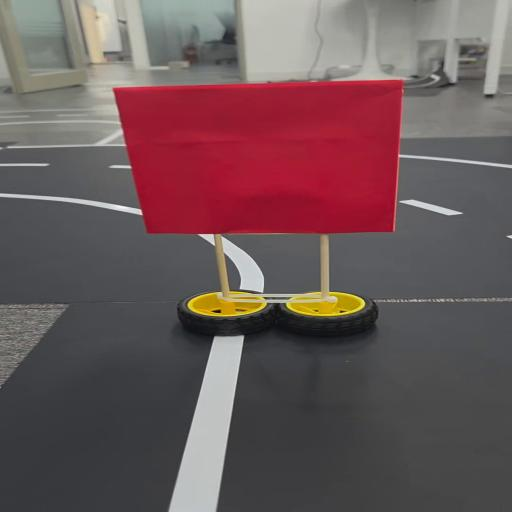Sign_A: (117, 73, 410, 341)
